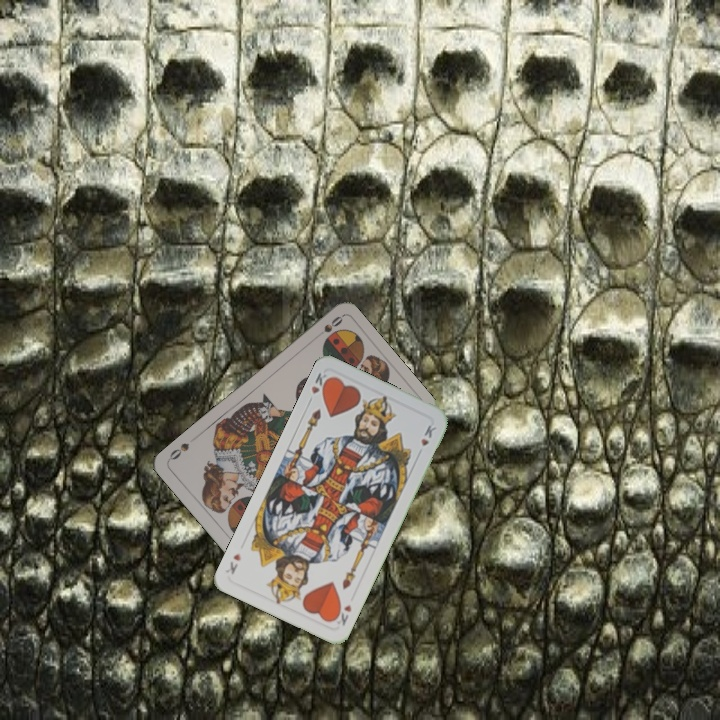HK: (304, 369, 333, 406), (329, 600, 354, 628)
SO: (310, 312, 345, 342)
